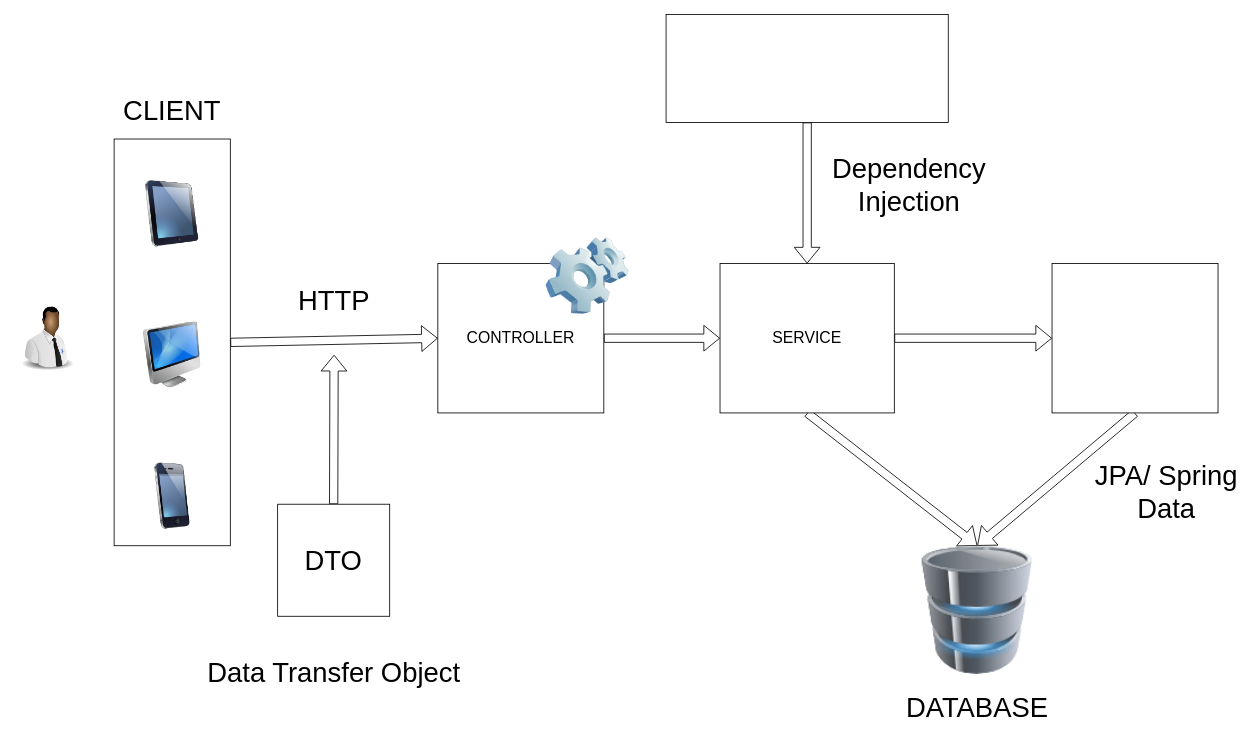
Image size: 1253x739. Some labels were removed from this diagram. Each missing label, with the centre of its shape:
"MODEL" goes at (1134,338).
"REPOSITORY (CRUD Service)" goes at (806,68).
